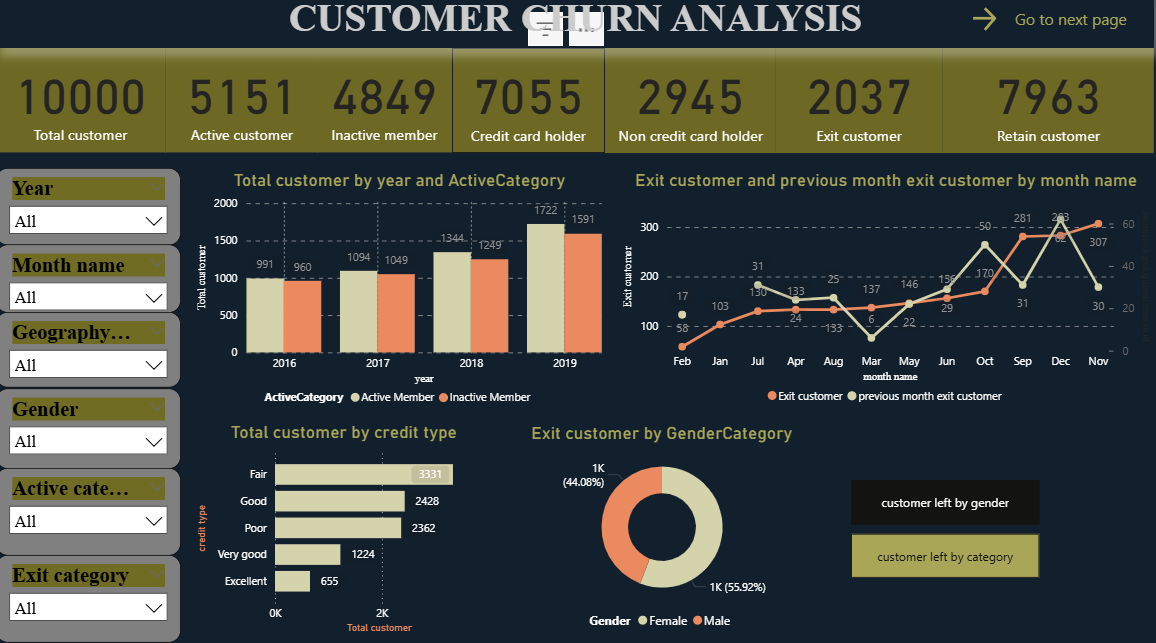

This screenshot's page, from the dashboard's own definition file:
{"tool":"powerbi","page":{"name":"homepage","canvas":[1280,720],"ordinal":0},"visuals":[{"type":"card","fields":{"Values":["Calculation.Active customer"]},"box":[187.1,62.4,168.2,115.3],"z":0},{"type":"card","fields":{"Values":["Calculation.Total customer"]},"box":[0,62.4,187.1,115.3],"z":1000},{"type":"card","fields":{"Values":["Calculation.Inactive member"]},"box":[355.3,62.4,149.3,115.3],"z":2000},{"type":"card","fields":{"Values":["Calculation.Credit card holder"]},"box":[503.6,62.9,169,116],"z":3000},{"type":"card","fields":{"Values":["Calculation.Non credit card holder"]},"box":[672.5,62.9,188.8,116],"z":4000},{"type":"card","fields":{"Values":["Calculation.Exit customer"]},"box":[861.4,62.9,183.9,116],"z":5000},{"type":"card","fields":{"Values":["Calculation.Retain customer"]},"box":[1045.2,62.9,233.6,116],"z":6000},{"type":"textbox","box":[0,0,1279.4,62.4],"z":7000},{"type":"slicer","fields":{"Values":["Datemaster.year"]},"box":[0,194.6,204.1,85],"z":8000},{"type":"slicer","fields":{"Values":["Datemaster.month name"]},"box":[0,279.7,204.1,75.6],"z":9000},{"type":"slicer","fields":{"Values":["Geography.GeographyLocation"]},"box":[0,355.3,204.1,83.2],"z":10000},{"type":"slicer","fields":{"Values":["Gender.GenderCategory"]},"box":[0,438.4,204.1,88.8],"z":11000},{"type":"slicer","fields":{"Values":["Activecustomer.ActiveCategory"]},"box":[0,527.2,204.1,96.4],"z":12000},{"type":"slicer","fields":{"Values":["Exit customer.ExitCategory"]},"box":[0,623.6,204.1,96.4],"z":13000},{"type":"barChart","fields":{"Category":["Bank_Churn.credit type"],"Y":["Calculation.Total customer"]},"box":[217,475.4,334.6,238.5],"z":14000},{"type":"clusteredColumnChart","fields":{"Category":["Datemaster.year","Datemaster.month"],"Y":["Calculation.Total customer"],"Series":["Activecustomer.ActiveCategory"]},"box":[217.3,196.5,457.3,270.2],"z":15000},{"type":"lineChart","fields":{"Y":["Calculation.Exit customer"],"Category":["Datemaster.month name"],"Y2":["Calculation.previous month exit customer"]},"box":[687.9,196.5,591.5,268.3],"z":16000},{"type":"donutChart","fields":{"Y":["Calculation.Exit customer"],"Category":["Gender.GenderCategory"]},"box":[571.5,477.1,328,236.9],"z":17000},{"type":"actionButton","box":[1070.1,9.9,185.5,41.4],"z":19000},{"type":"bookmarkNavigator","box":[944.1,539.5,208.9,108.4],"z":20000}]}

Visuals, with their boxes in screenshot pixels (x1, y1, x2, y2), scaled from the page's 1280x720 canvas onto the 1156x643 screenshot:
card - Calculation.Active customer: <bbox>169, 56, 321, 159</bbox>
card - Calculation.Total customer: <bbox>0, 56, 169, 159</bbox>
card - Calculation.Inactive member: <bbox>321, 56, 456, 159</bbox>
card - Calculation.Credit card holder: <bbox>455, 56, 607, 160</bbox>
card - Calculation.Non credit card holder: <bbox>607, 56, 778, 160</bbox>
card - Calculation.Exit customer: <bbox>778, 56, 944, 160</bbox>
card - Calculation.Retain customer: <bbox>944, 56, 1155, 160</bbox>
textbox: <bbox>0, 0, 1155, 56</bbox>
slicer - Datemaster.year: <bbox>0, 174, 184, 250</bbox>
slicer - Datemaster.month name: <bbox>0, 250, 184, 317</bbox>
slicer - Geography.GeographyLocation: <bbox>0, 317, 184, 392</bbox>
slicer - Gender.GenderCategory: <bbox>0, 392, 184, 471</bbox>
slicer - Activecustomer.ActiveCategory: <bbox>0, 471, 184, 557</bbox>
slicer - Exit customer.ExitCategory: <bbox>0, 557, 184, 642</bbox>
barChart - Bank_Churn.credit type x Calculation.Total customer: <bbox>196, 425, 498, 638</bbox>
clusteredColumnChart - Datemaster.year x Datemaster.month: <bbox>196, 175, 609, 417</bbox>
lineChart - Calculation.Exit customer x Datemaster.month name: <bbox>621, 175, 1155, 415</bbox>
donutChart - Calculation.Exit customer x Gender.GenderCategory: <bbox>516, 426, 812, 638</bbox>
actionButton: <bbox>966, 9, 1134, 46</bbox>
bookmarkNavigator: <bbox>853, 482, 1041, 579</bbox>
